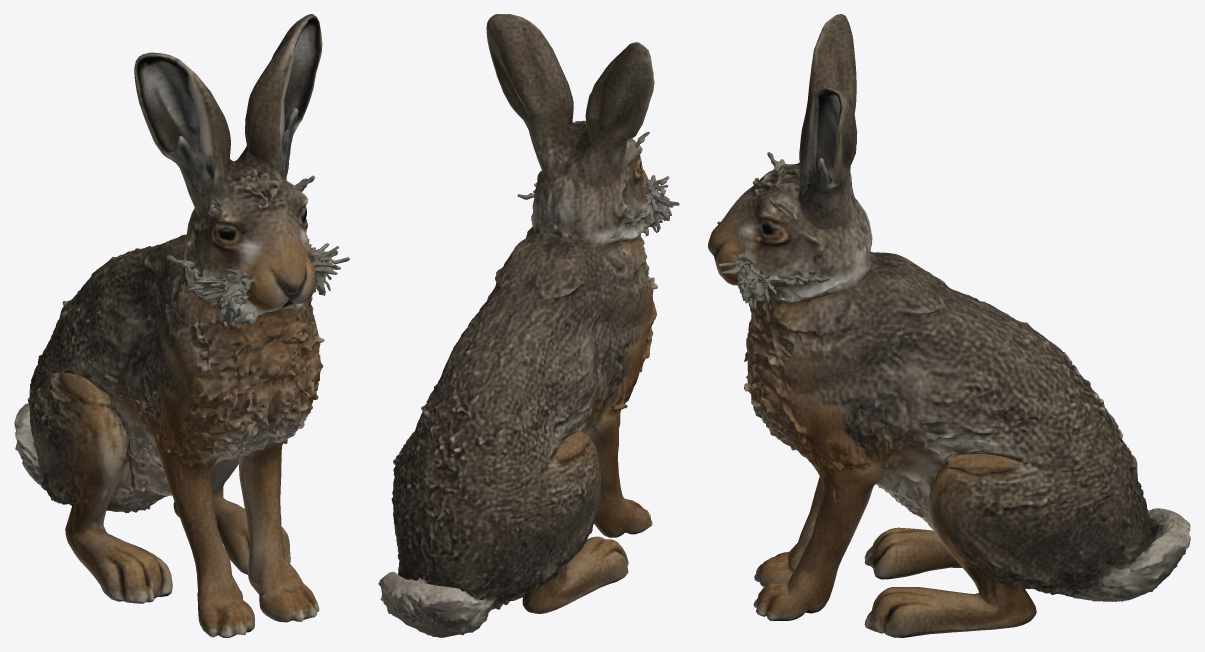
Rendered from mountain-hare-v20.glb.
The picture shows the model from 3 angles, left to right: view 1: azimuth 30°, elevation 25°; view 2: azimuth 150°, elevation 25°; view 3: azimuth 270°, elevation 25°; orthographic projection. The views are drawn at different scales.
Parts seen in each view (by area): view 1: geometry_0; view 2: geometry_0; view 3: geometry_0.
Boxes of the visible parts, x1,y1,x2,y2 form: geometry_0: (14, 14, 349, 637); geometry_0: (378, 14, 679, 637); geometry_0: (708, 14, 1190, 637).
Size of the model in its own units: 0.2551 by 0.6997 by 0.561.
Materials: 1 (1 with a texture image).
